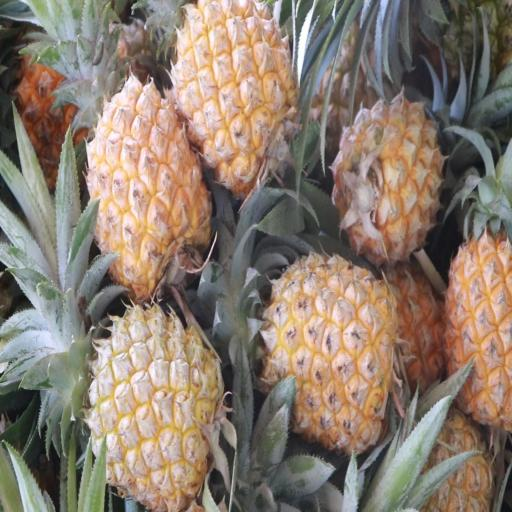Pineapple - v8 v1: (90, 308, 222, 510), (88, 79, 212, 291), (265, 254, 396, 450), (171, 0, 298, 180), (332, 96, 439, 259), (445, 228, 512, 419)
